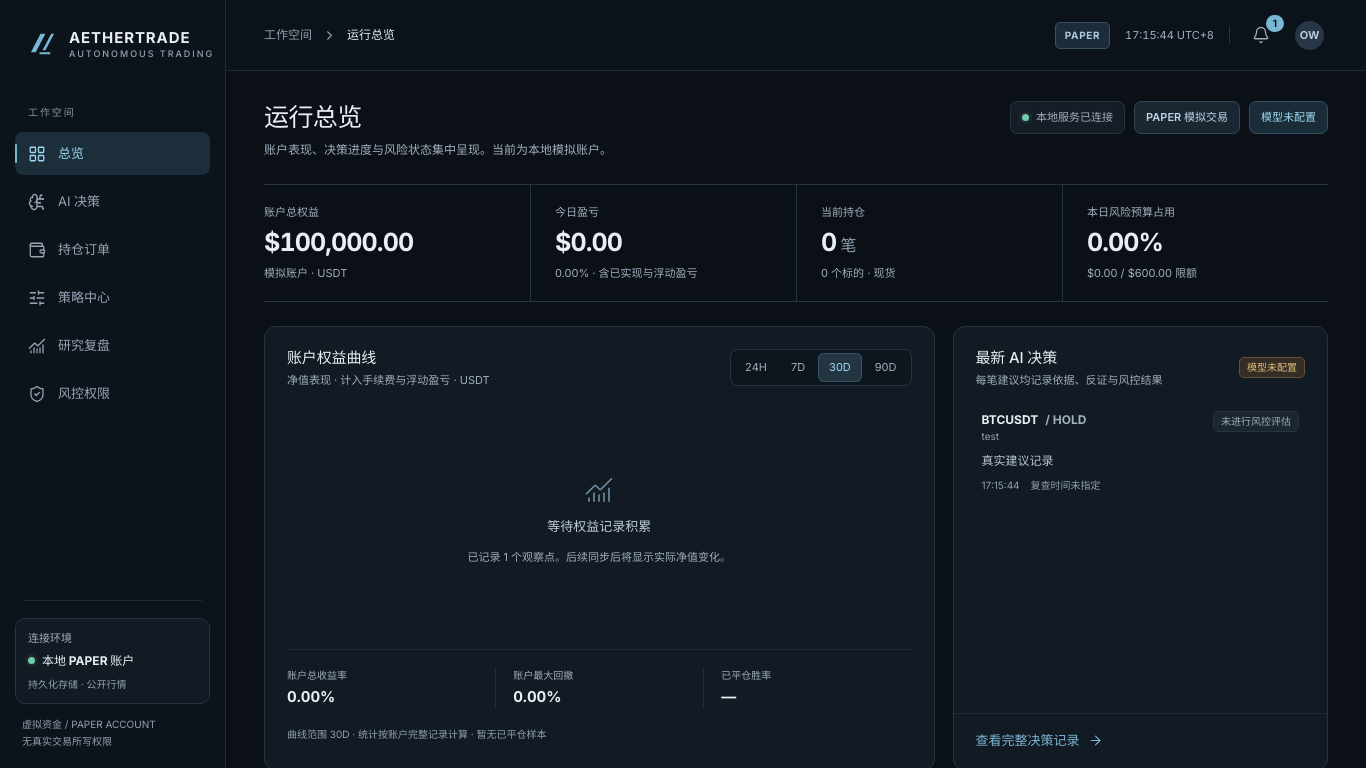
it: keeps bell unread state until read and opens the associated decision
What coordinates should you click on to do the following:
click the button named "查看通知，1 条未读"
I would click on:
 (1260, 35)
Its box is [1245, 20, 1276, 50].
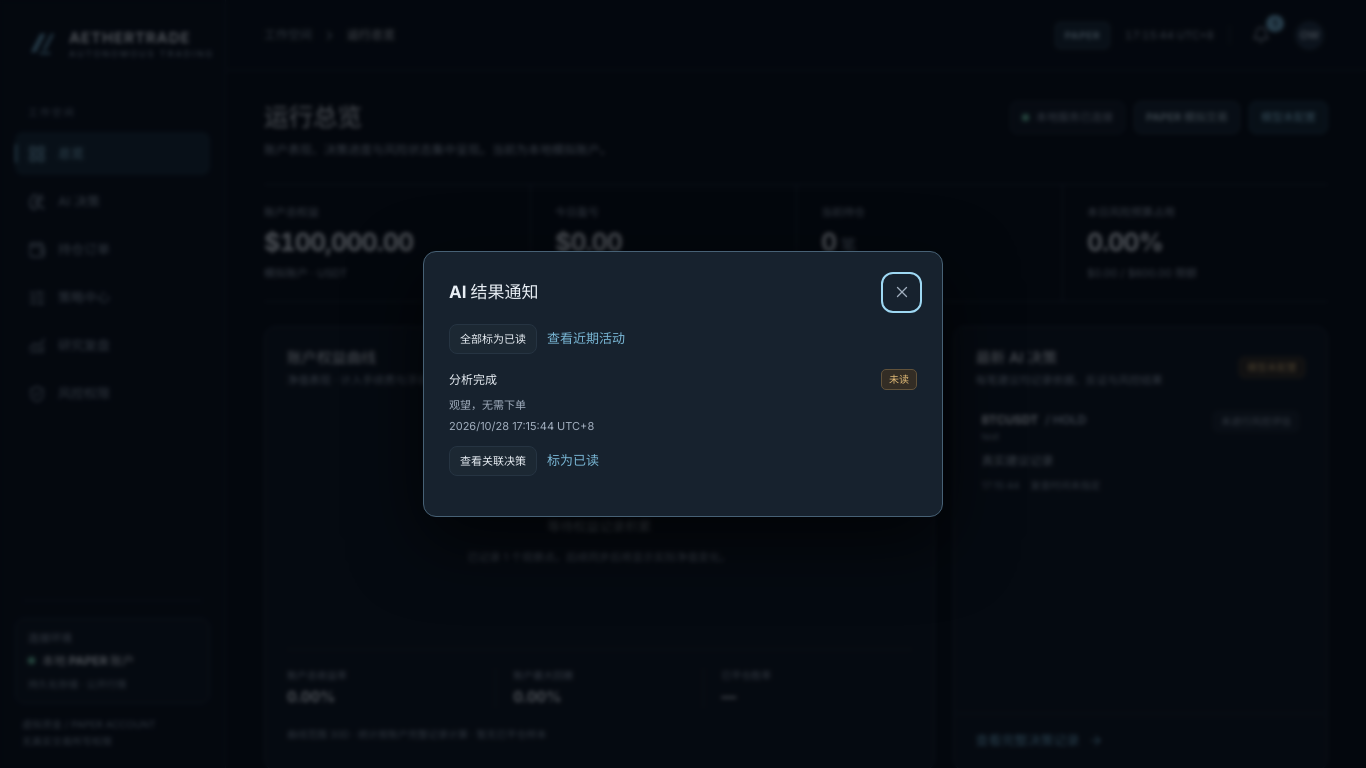
What coordinates should you click on to do the following:
click the button "查看关联决策"
I would click on:
 (493, 461)
Its box is [449, 446, 537, 476].
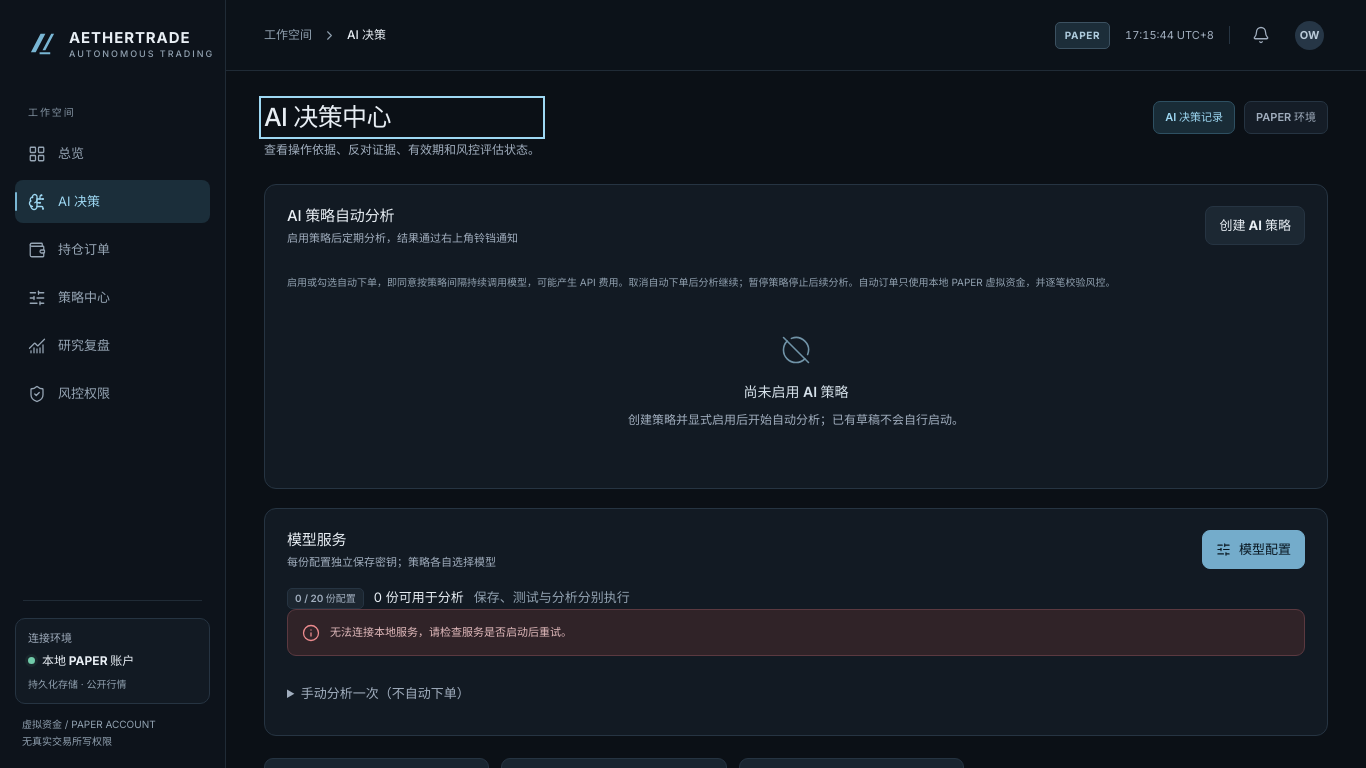
What coordinates should you click on to do the following:
click the button named "查看通知，0 条未读"
I would click on:
 (1260, 35)
Its box is [1245, 20, 1276, 50].
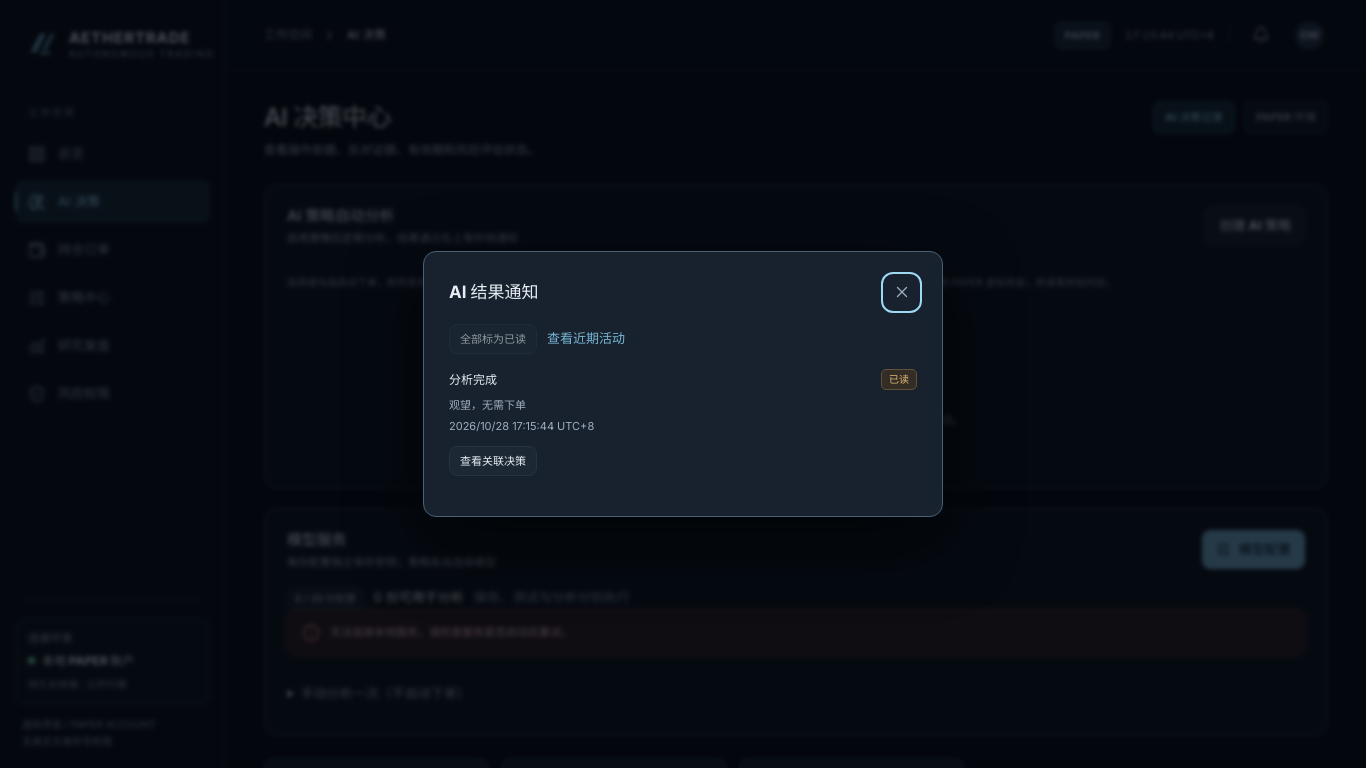
Check: the button "全部标为已读" is disabled, box [449, 324, 537, 354]
